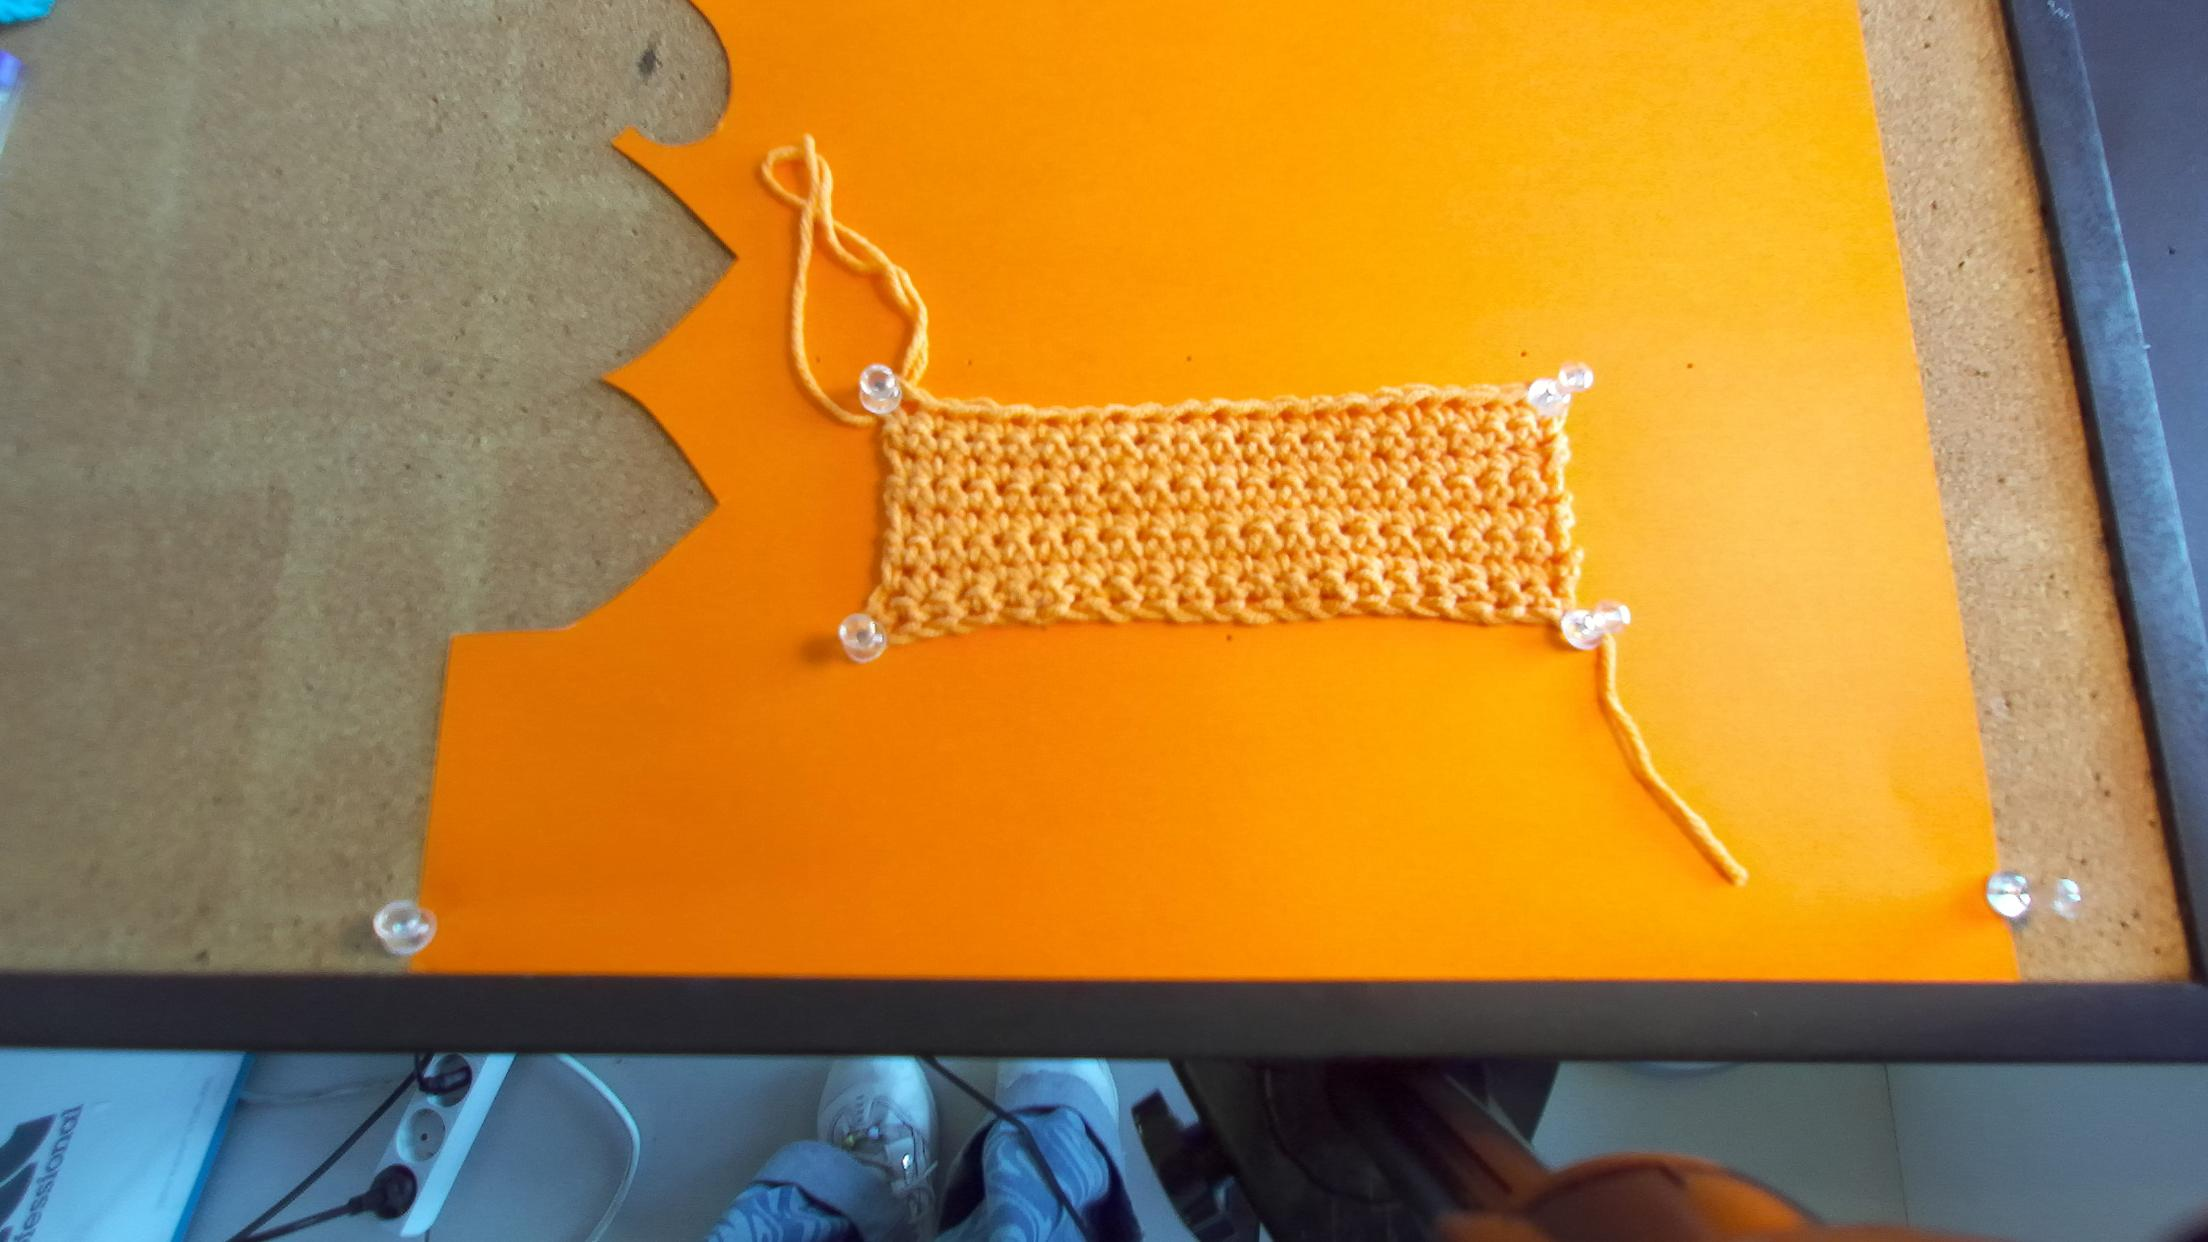hole: (899, 397, 917, 416), (1174, 411, 1198, 425), (1210, 409, 1228, 425), (1413, 396, 1430, 411), (1277, 408, 1295, 422), (1007, 416, 1025, 428), (1139, 414, 1159, 425), (1382, 402, 1395, 416), (1110, 412, 1125, 425), (1313, 409, 1328, 422), (1345, 405, 1360, 417), (1043, 417, 1060, 428), (1445, 399, 1462, 409), (936, 409, 954, 419), (975, 411, 989, 423), (1482, 400, 1495, 412), (1510, 399, 1526, 409), (1080, 414, 1089, 429), (1245, 411, 1260, 419)
swatch: (861, 372, 1586, 651)
